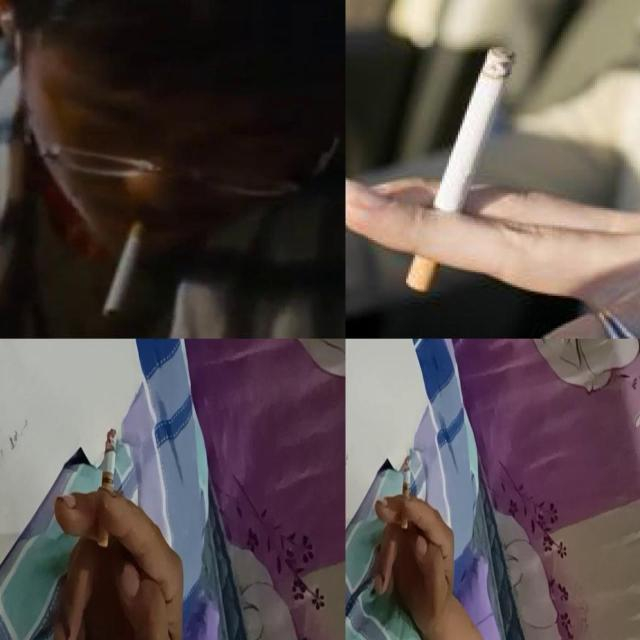smoking: (404, 44, 516, 296), (101, 214, 150, 318), (96, 428, 116, 548), (401, 456, 412, 530)
